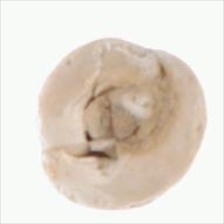L3: (81, 84, 166, 163)
L4: (38, 37, 207, 211)
